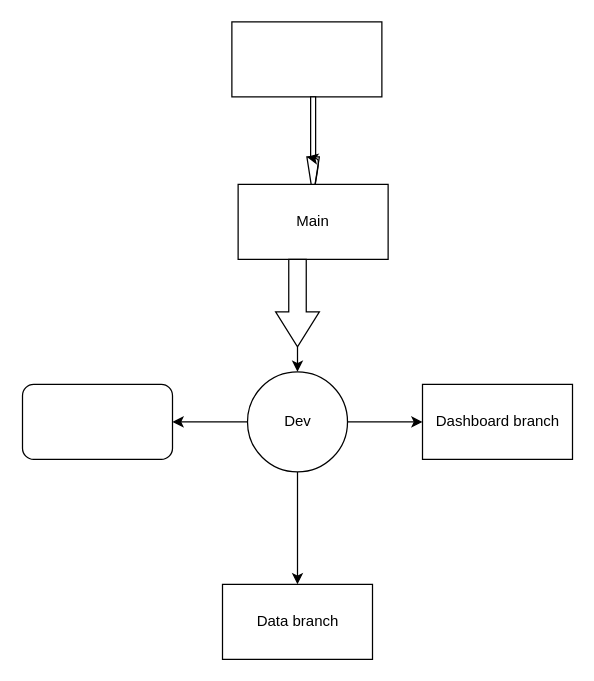
This 594x681 diagram has some shape labels left out. Here are the shapes that lost their labels. From the top down, the centre of each, then its label:
the point at 306,59: Repository
the point at 96,421: Setup
